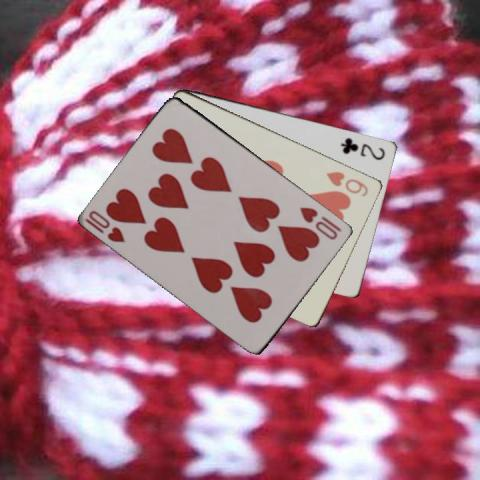10h: (297, 204, 344, 242), (82, 207, 127, 244)
2c: (338, 134, 387, 161)
6h: (323, 168, 370, 199)
